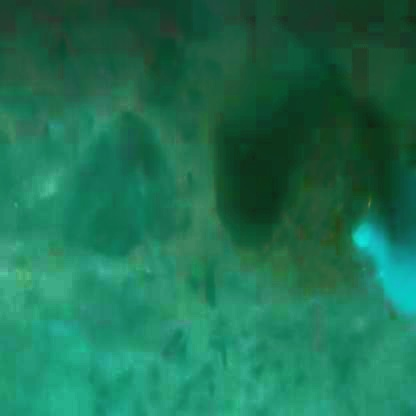misc: (219, 90, 399, 334)
